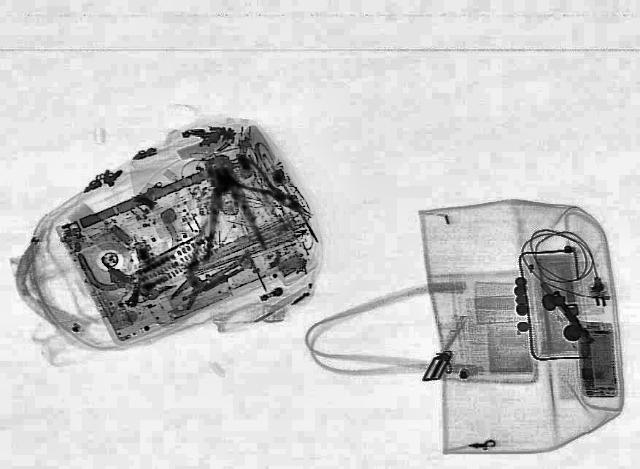Pliers: (184, 153, 268, 260), (154, 235, 252, 315), (218, 158, 314, 223)
